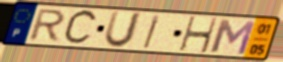C: (61, 8, 100, 47)
H: (177, 16, 220, 55)
I: (141, 14, 163, 50)
M: (209, 18, 258, 57)
R: (26, 8, 68, 43)
U: (102, 10, 145, 50)
